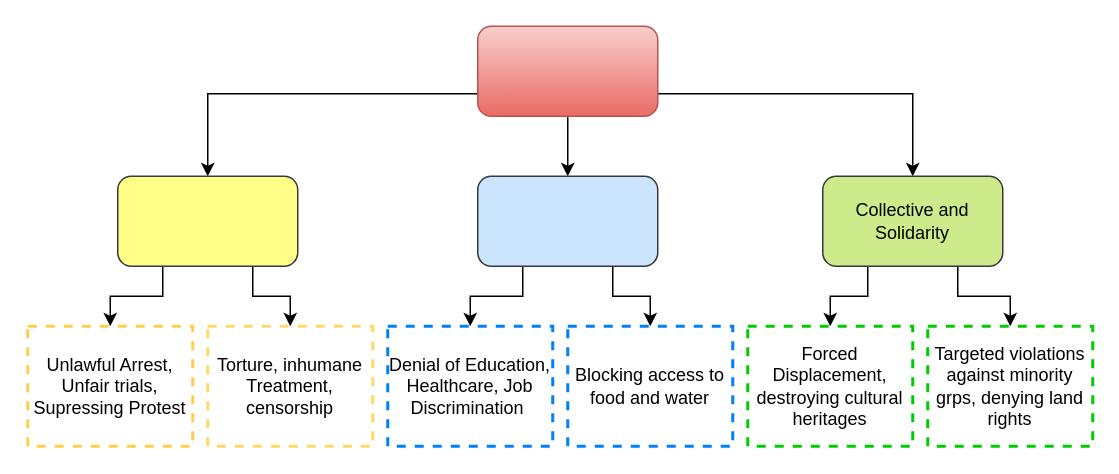
Some shapes in this 1119 by 474 pixel diagram are drawn without their labels. The shapes that lost their labels are listed below. From the top down, each one's centre as x and y in pixels, then its label:
[567,70]: Human Rights Violation
[207,220]: Civil and Political
[567,220]: Economic, Social, Cultural
